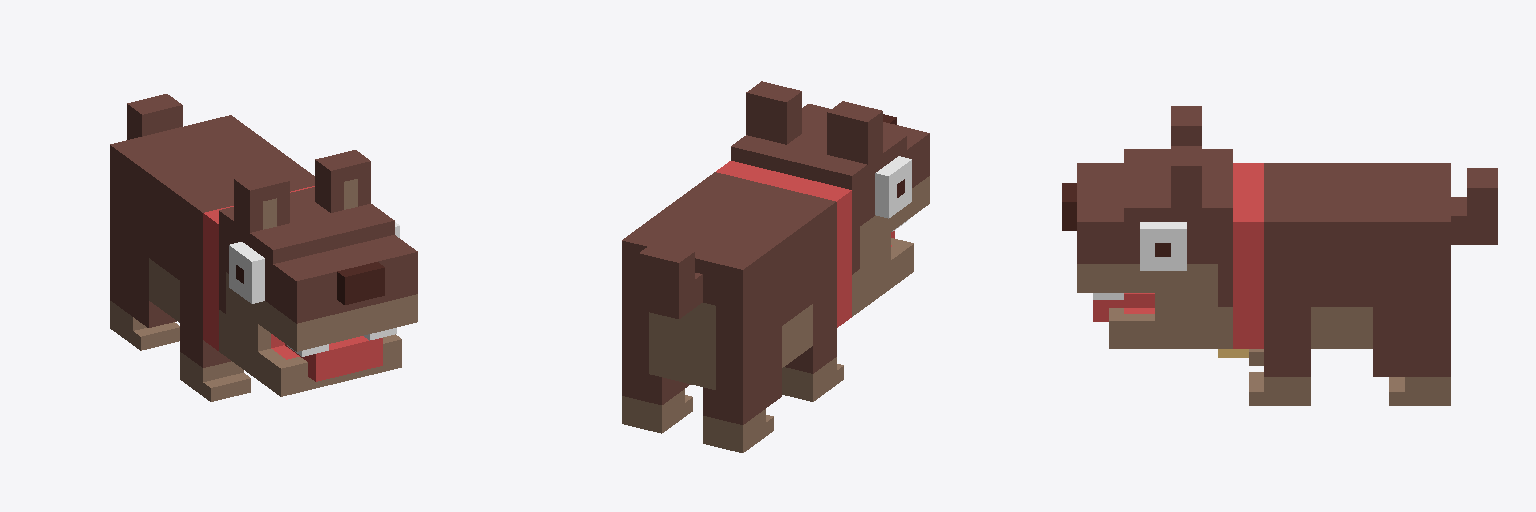
3 renders of one model, left to right at view 1: azimuth 30°, elevation 25°; view 2: azimuth 150°, elevation 25°; view 3: azimuth 270°, elevation 25°, orthographic.
Parts seen in each view (by area): view 1: Dog; view 2: Dog; view 3: Dog.
Part boxes in pixels (x1,y1,x2,y2): Dog: (110, 94, 417, 401); Dog: (622, 81, 929, 452); Dog: (1062, 106, 1497, 405).
Bounding box in the file's own units: 0.385 × 0.595 × 0.98.
1 materials, 1 textured.